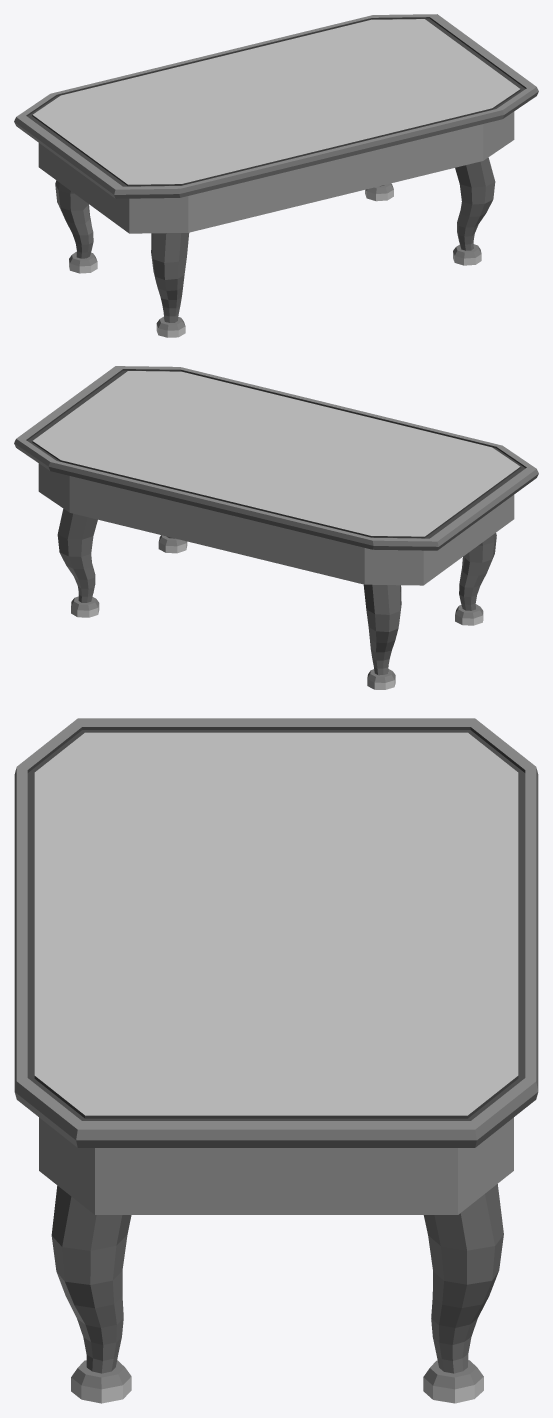
File: CoffeeTableModel.fbx
3 renders of one model, top to bottom at view 1: azimuth 30°, elevation 25°; view 2: azimuth 150°, elevation 25°; view 3: azimuth 270°, elevation 25°, orthographic. The views are drawn at different scales.
Visible parts, largest first — view 1: CoffeeTableModel; view 2: CoffeeTableModel; view 3: CoffeeTableModel.
Part boxes in pixels (x1,y1,x2,y2): CoffeeTableModel: [14, 14, 538, 337]; CoffeeTableModel: [14, 366, 538, 689]; CoffeeTableModel: [14, 718, 538, 1403].
Bounding box in the file's own units: 183 × 66.56 × 97.82.
